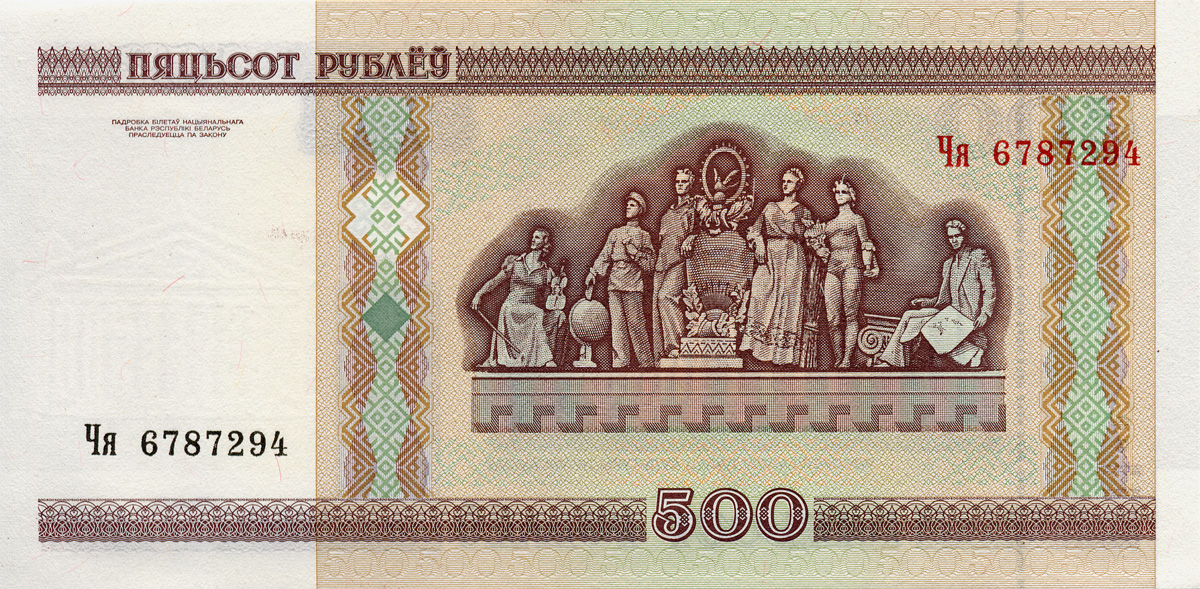belarus_ruble_500: (1, 10, 1196, 589)
